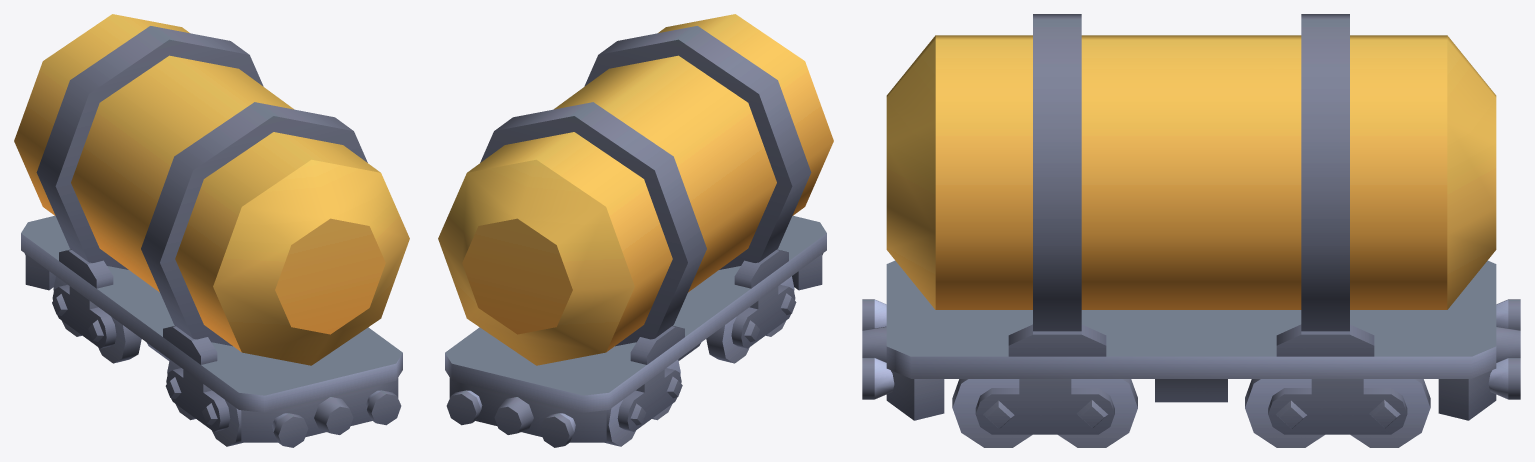
The model's file is tr-train-carriage-tank-large.glb.
3 views of the same model, side by side, from view 1: azimuth 30°, elevation 25°; view 2: azimuth 150°, elevation 25°; view 3: azimuth 270°, elevation 25° (orthographic). The views are drawn at different scales.
Parts seen in each view (by area): view 1: train-carriage-tank-large; view 2: train-carriage-tank-large; view 3: train-carriage-tank-large.
Boxes of the visible parts, <box> form: train-carriage-tank-large: <box>14,14,409,447</box>; train-carriage-tank-large: <box>438,14,833,447</box>; train-carriage-tank-large: <box>862,14,1520,447</box>.
Bounding box in the file's own units: 1.39 × 1.75 × 2.7.
Materials: 1 (1 with a texture image).
